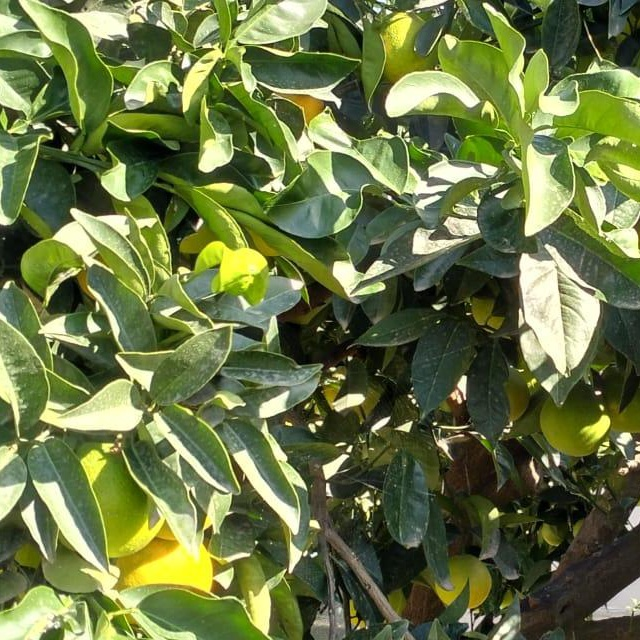orange: (99, 504, 217, 628), (64, 434, 170, 560), (535, 384, 613, 460), (375, 6, 447, 82), (425, 547, 495, 615), (598, 365, 640, 435), (498, 362, 534, 426)
